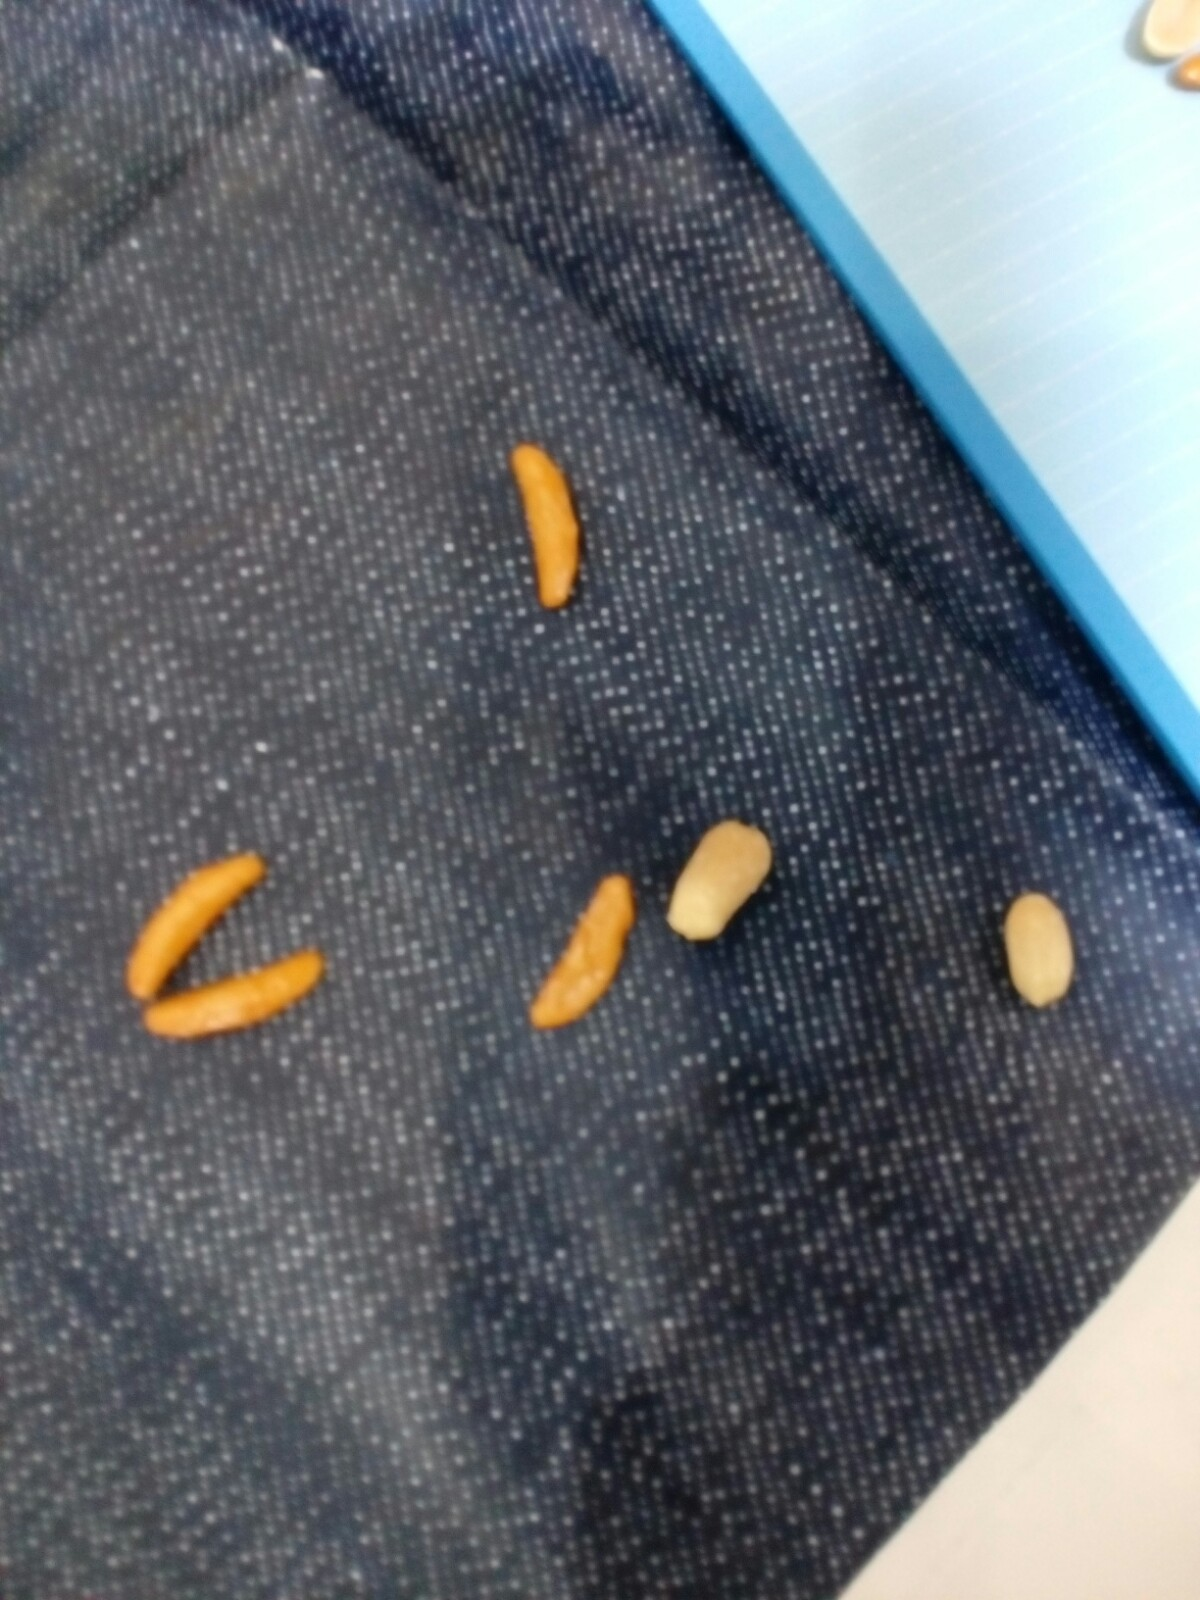peanut: (669, 808, 784, 950), (992, 882, 1095, 1010)
